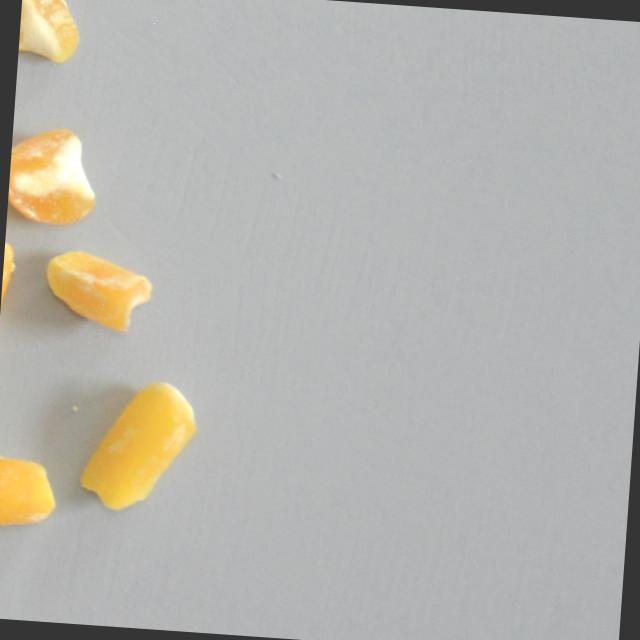dañado: (39, 242, 156, 339), (6, 122, 104, 233), (0, 446, 62, 533), (17, 0, 89, 70), (0, 226, 21, 360)
pelicula: (75, 370, 203, 520)
